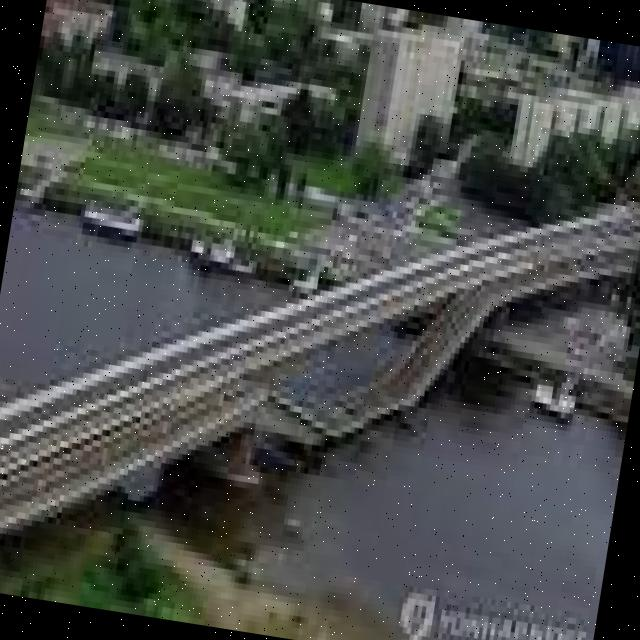bridge collapse: (16, 85, 571, 619)
